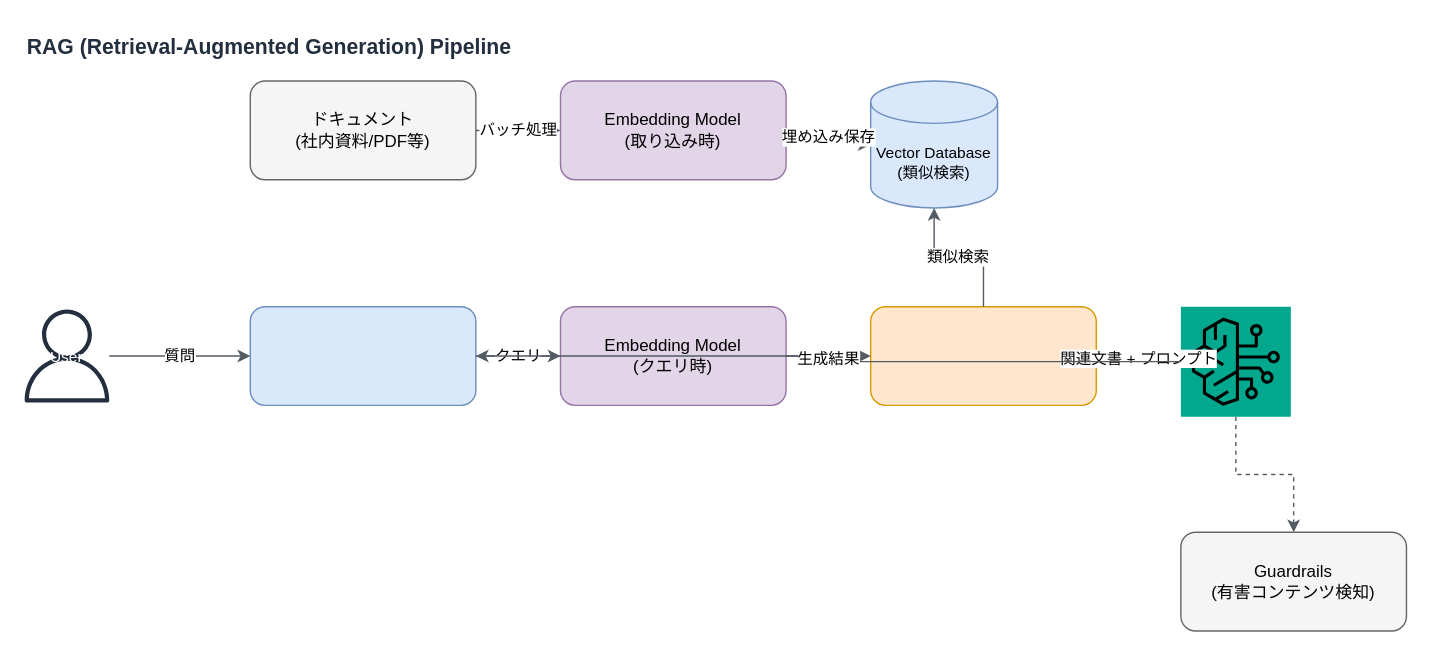
Some shapes in this 1431 by 656 pixel diagram are drawn without their labels. Each missing label, with the box of its shape:
Application (Chat UI): (249, 305, 476, 405)
LLM (生成): (1180, 306, 1290, 416)
Retriever (Top-K検索): (869, 305, 1096, 405)
